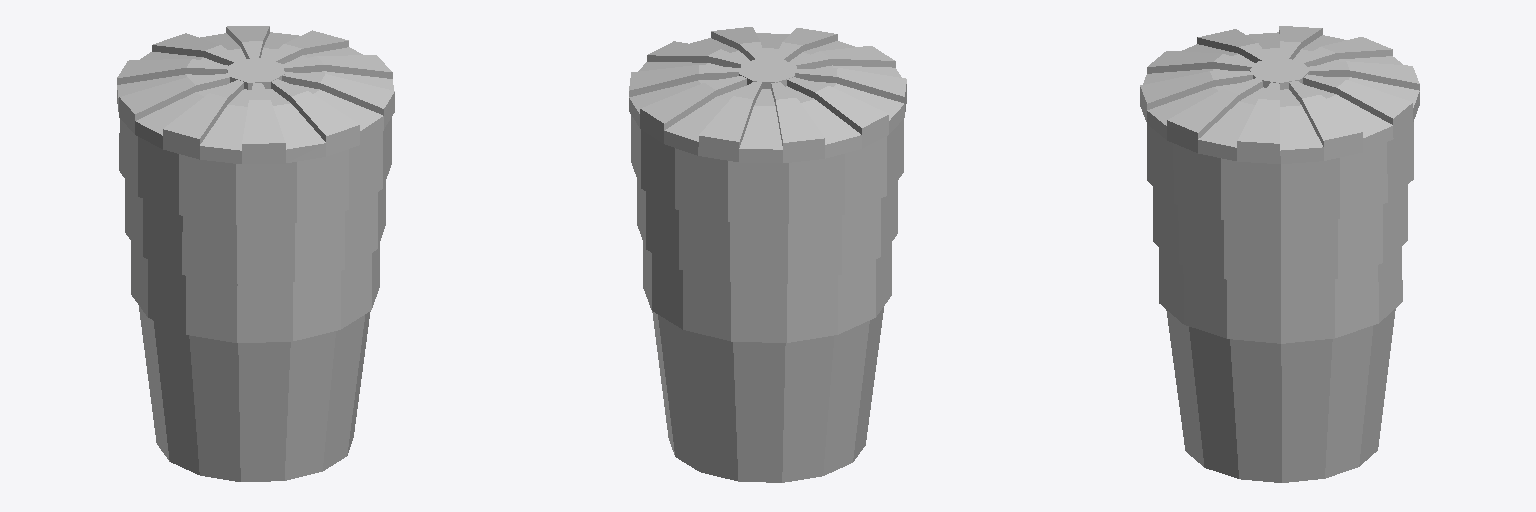
Rendered from Road1_3_3.obj.
3 views of the same model, side by side, from view 1: azimuth 30°, elevation 25°; view 2: azimuth 150°, elevation 25°; view 3: azimuth 270°, elevation 25° (orthographic).
Parts seen in each view (by area): view 1: GSDRoadBarrel3_Rigid; view 2: GSDRoadBarrel3_Rigid; view 3: GSDRoadBarrel3_Rigid.
Boxes of the visible parts, <box> form: GSDRoadBarrel3_Rigid: <box>117,26,394,481</box>; GSDRoadBarrel3_Rigid: <box>629,27,906,482</box>; GSDRoadBarrel3_Rigid: <box>1140,26,1419,482</box>.
Bounding box in the file's own units: 0.883 × 1.29 × 0.8833.